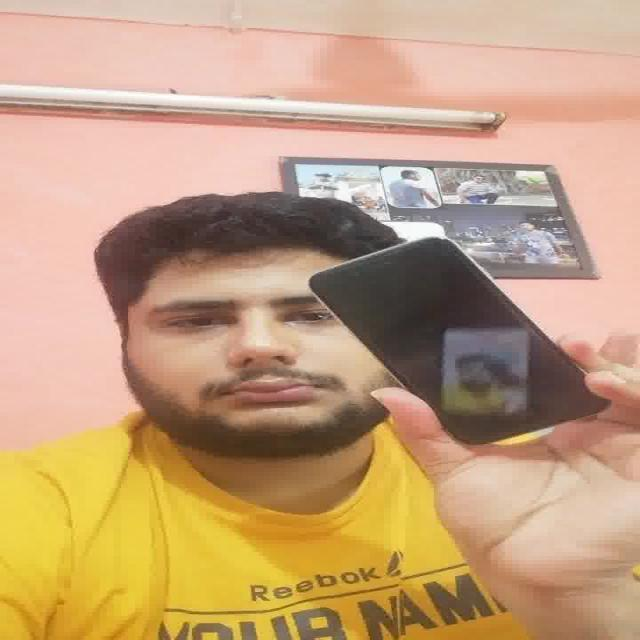Phone: (306, 235, 612, 440)
